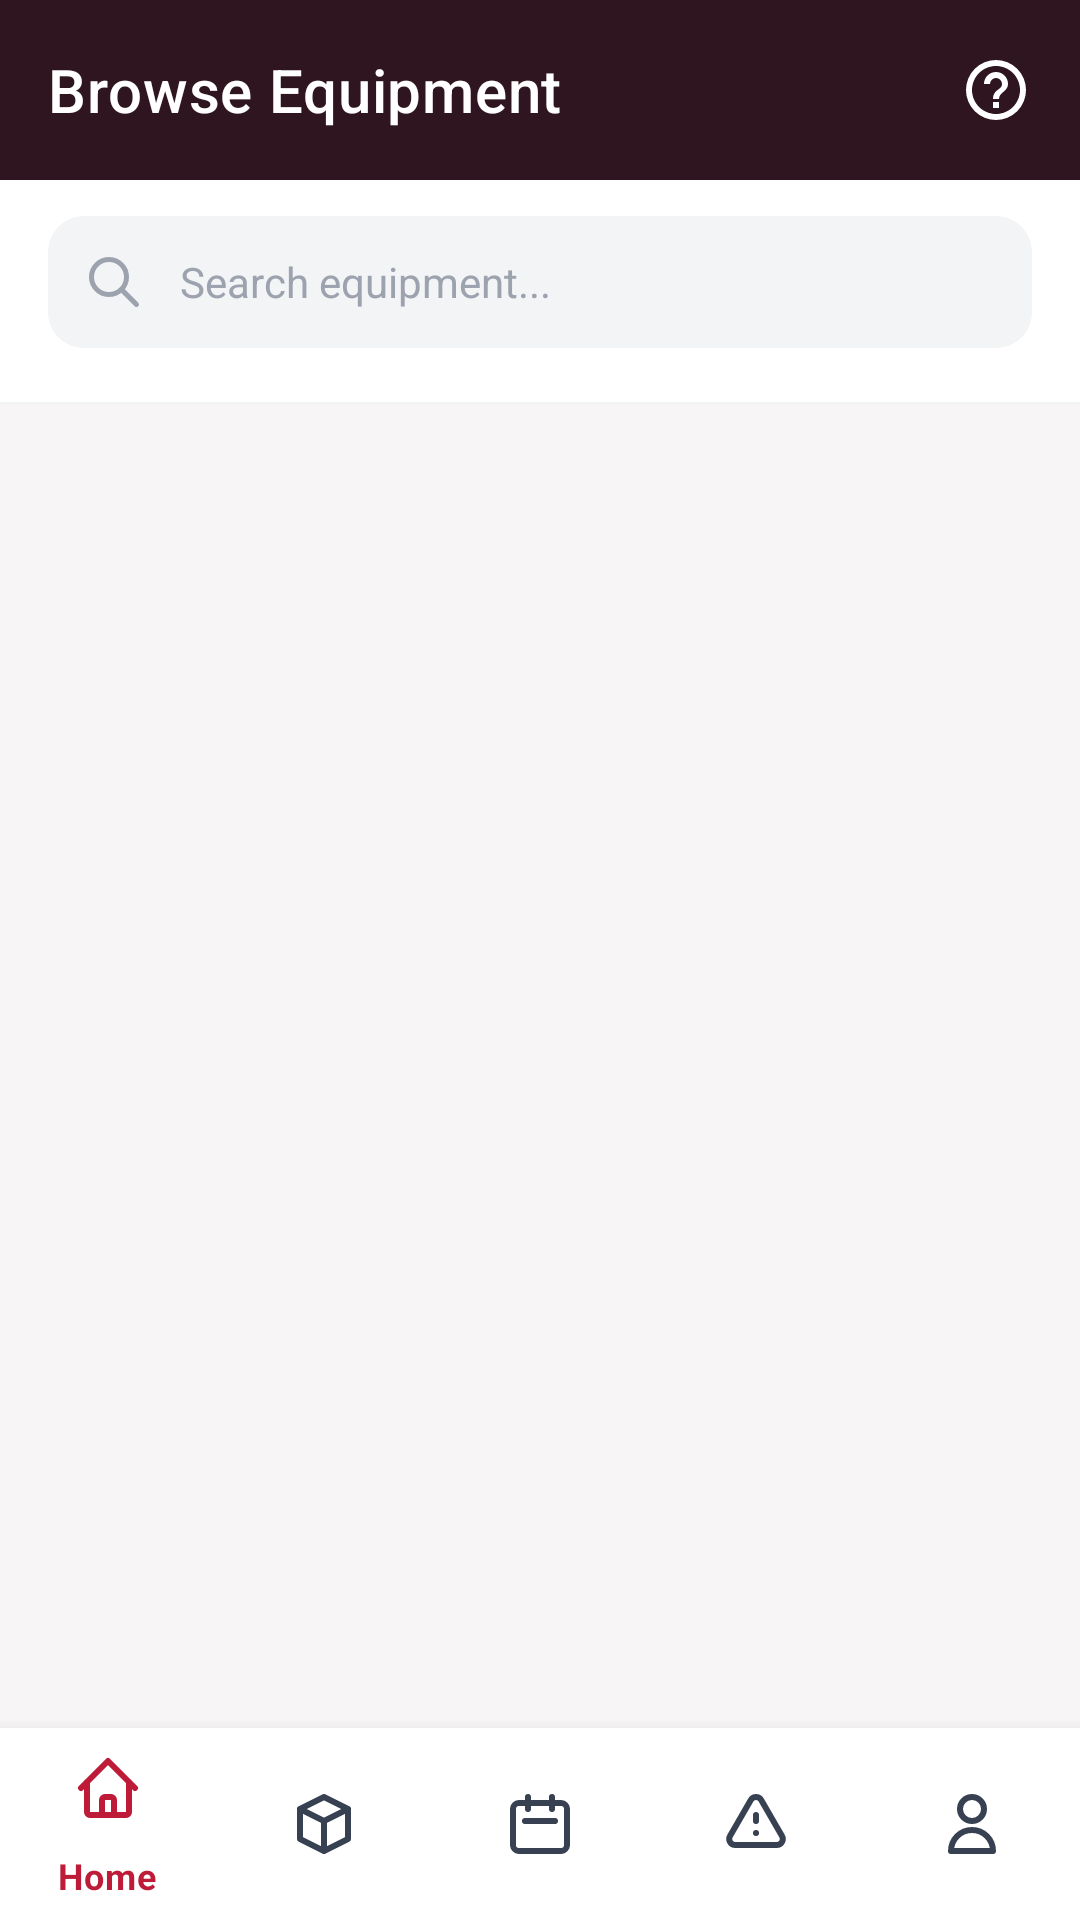

Screen size 1080 x 1920. Icon name, then its box in pixels as (x1, y1, x2, y2):
Borrowing Guide: (966, 60, 1026, 120)
